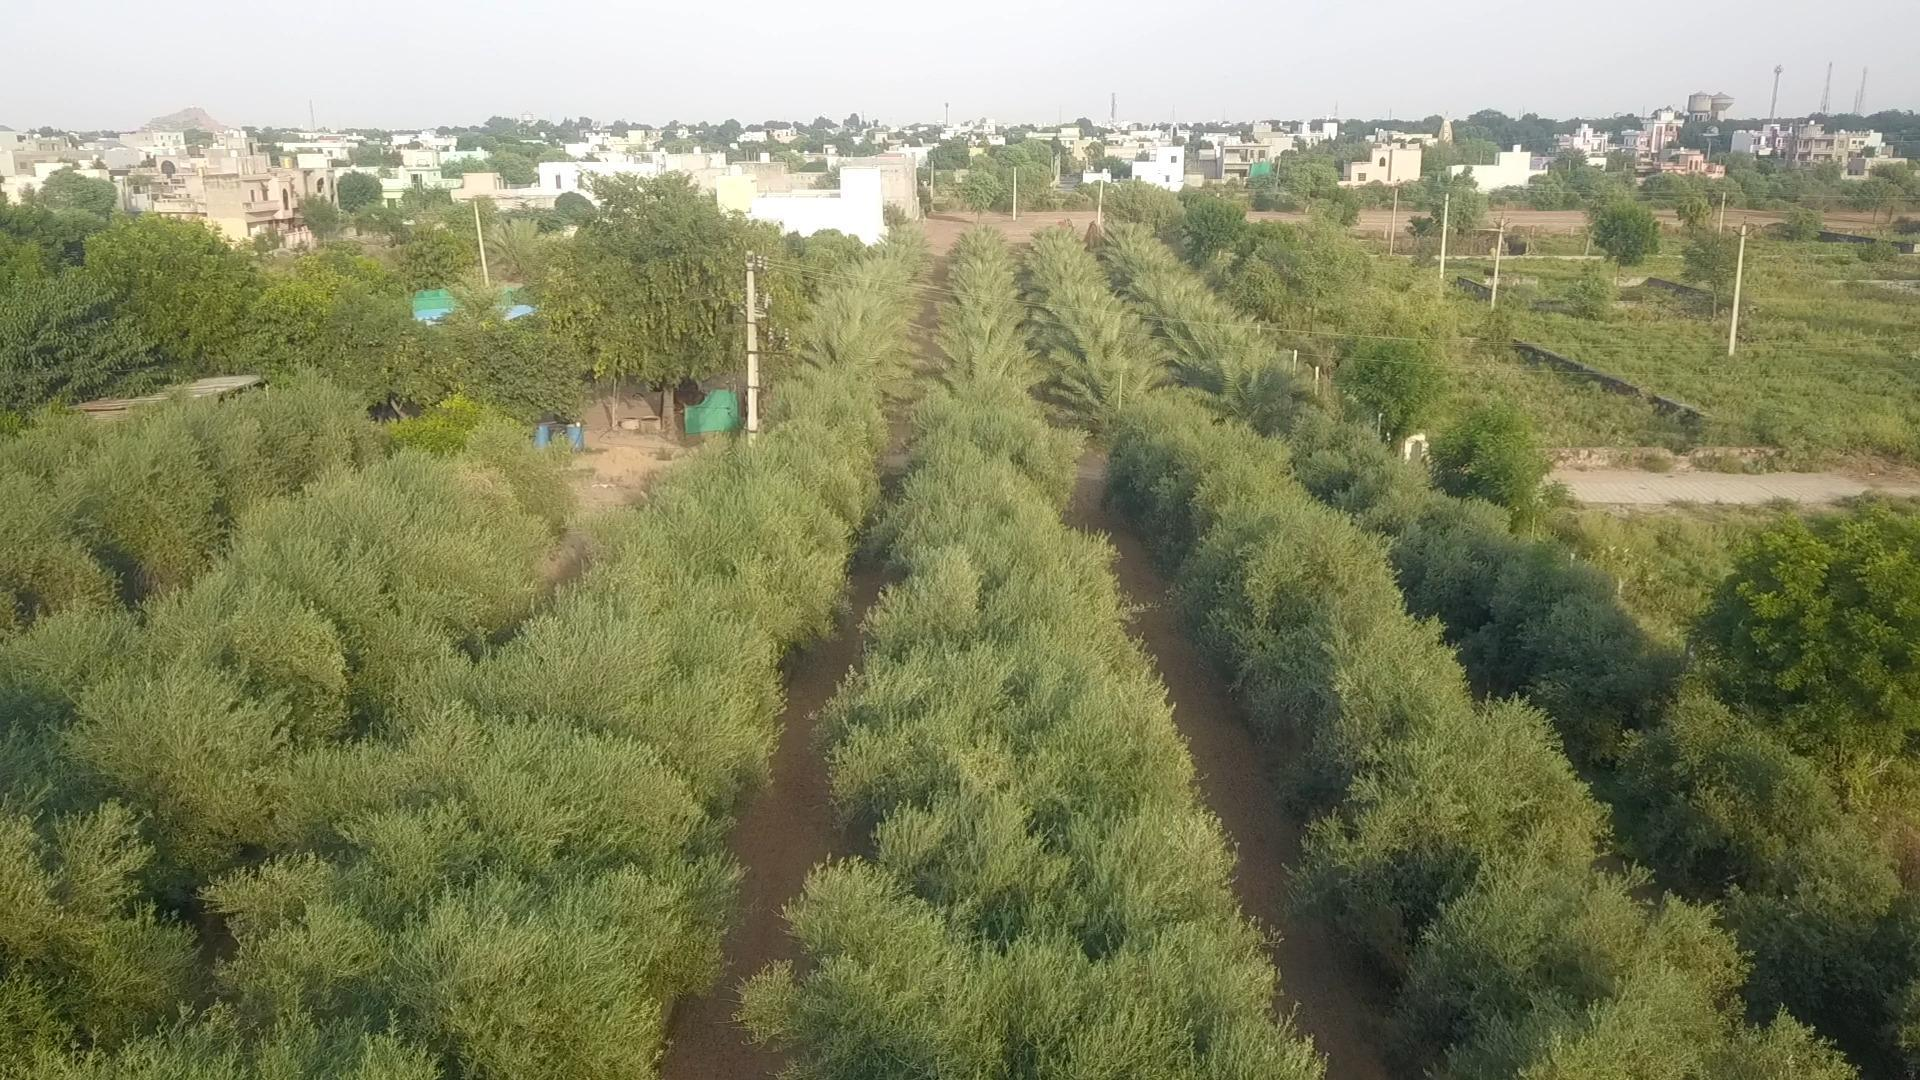canopy: (1108, 397, 1858, 1079), (222, 371, 884, 1079), (1294, 423, 1919, 1077), (735, 462, 1325, 1079), (0, 454, 553, 1038)
road: (1068, 454, 1391, 1079), (662, 566, 886, 1079)
